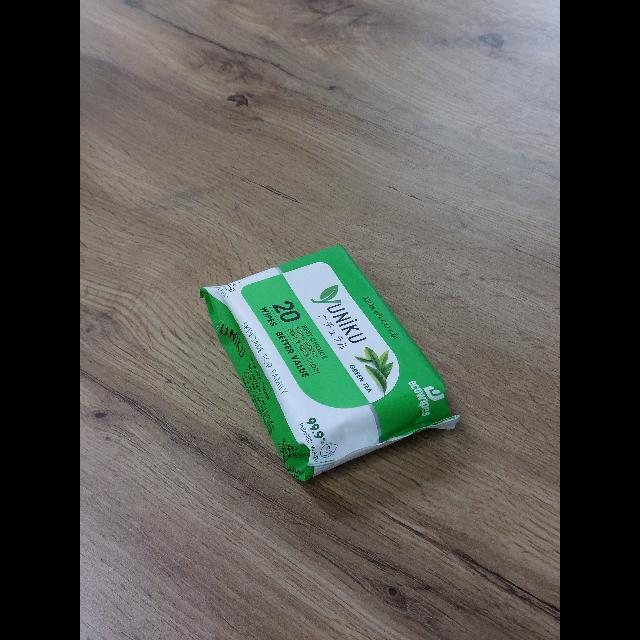khan_giay: (199, 245, 461, 484)
